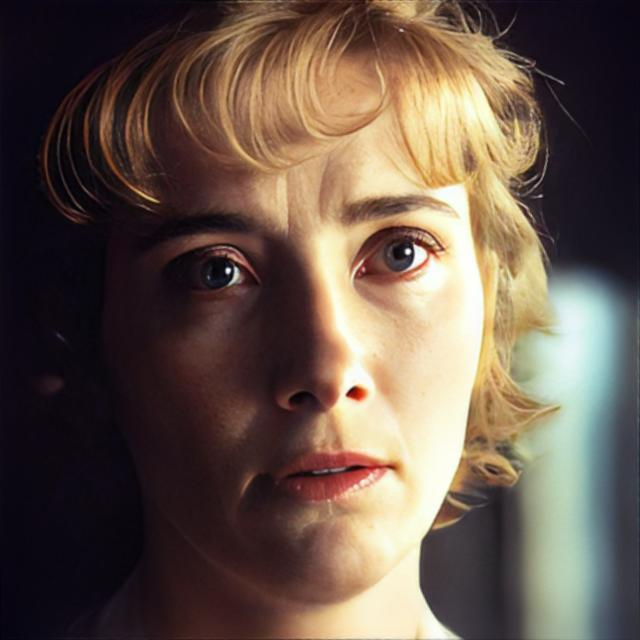fear: (92, 46, 486, 606)
